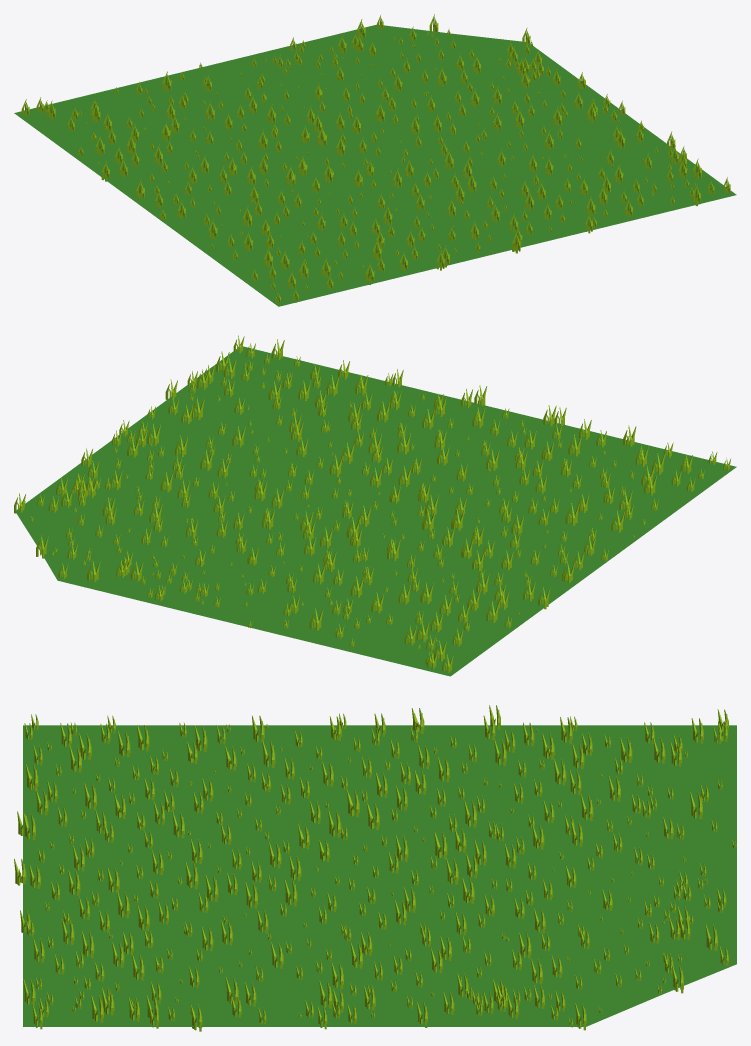
The model's file is Grass1left-bottom-corner.fbx.
The picture shows the model from 3 angles, top to bottom: view 1: azimuth 30°, elevation 25°; view 2: azimuth 150°, elevation 25°; view 3: azimuth 270°, elevation 25°; orthographic projection. The views are drawn at different scales.
Visible parts, largest first — view 1: Plane; view 2: Plane; view 3: Plane.
Boxes of the visible parts, x1,y1,x2,y2 form: Plane: (14,24,736,306); Plane: (15,346,736,676); Plane: (23,725,736,1026).
Size of the model in its own units: 1613 by 179 by 1621.
